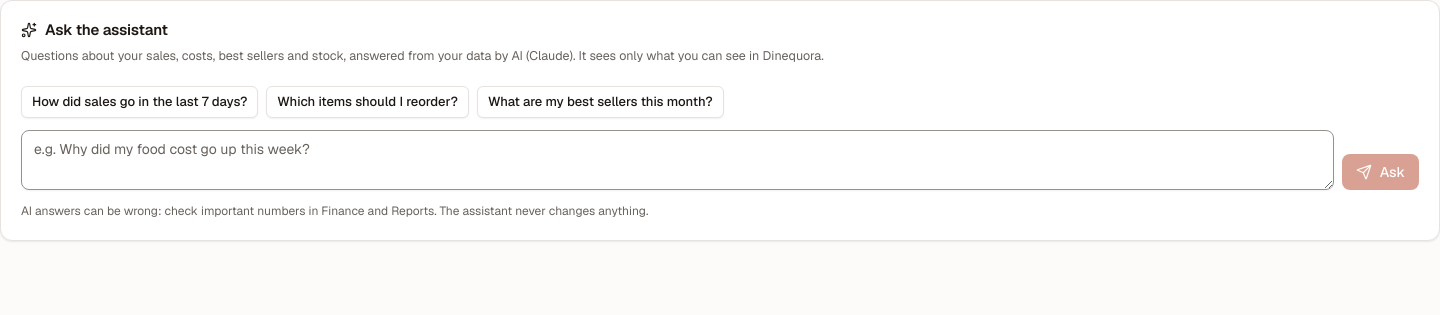
Scenario: assistant panel › asks with the store scope and the history, and shows the answer
Type "How were sales?" into the text box named "Your question" at (677, 160), box [21, 130, 1334, 190]
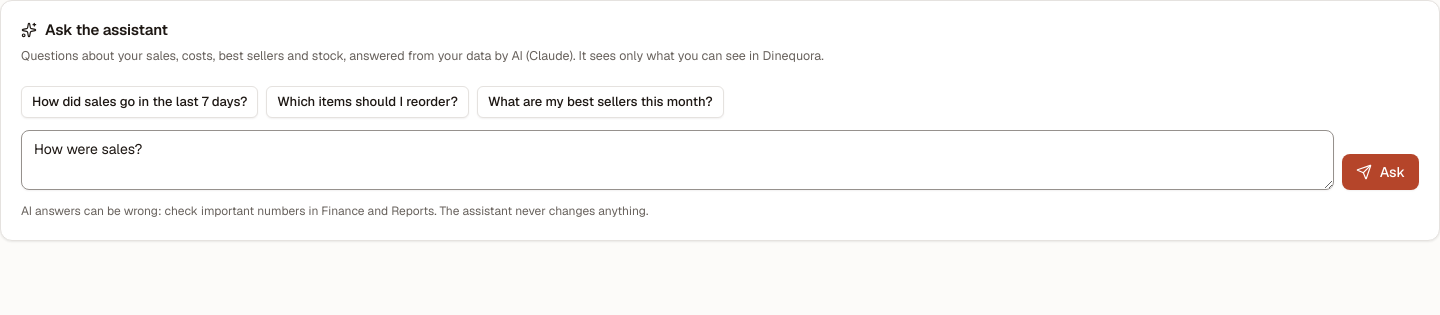
Click the button "Ask" at (1380, 172), box [1342, 154, 1419, 190]
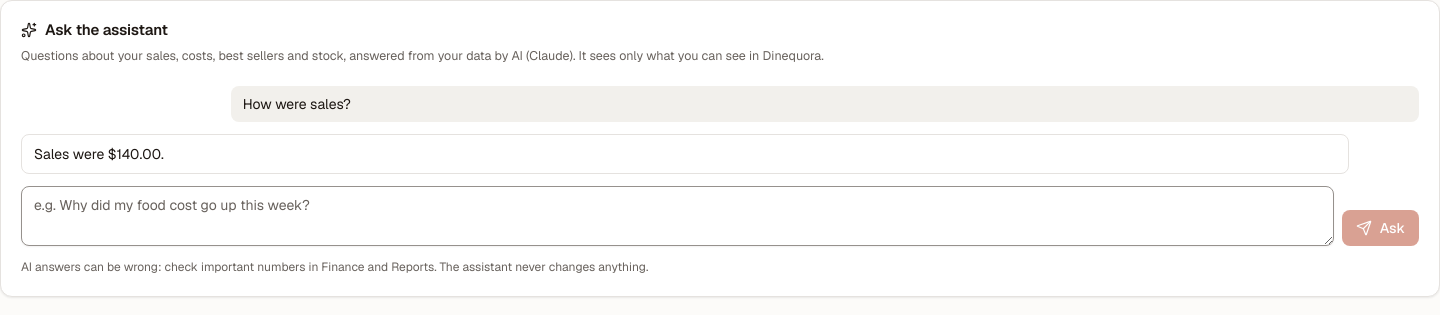
Expected: the list item "Sales were $140.00." is shown, [21, 134, 1349, 174]
